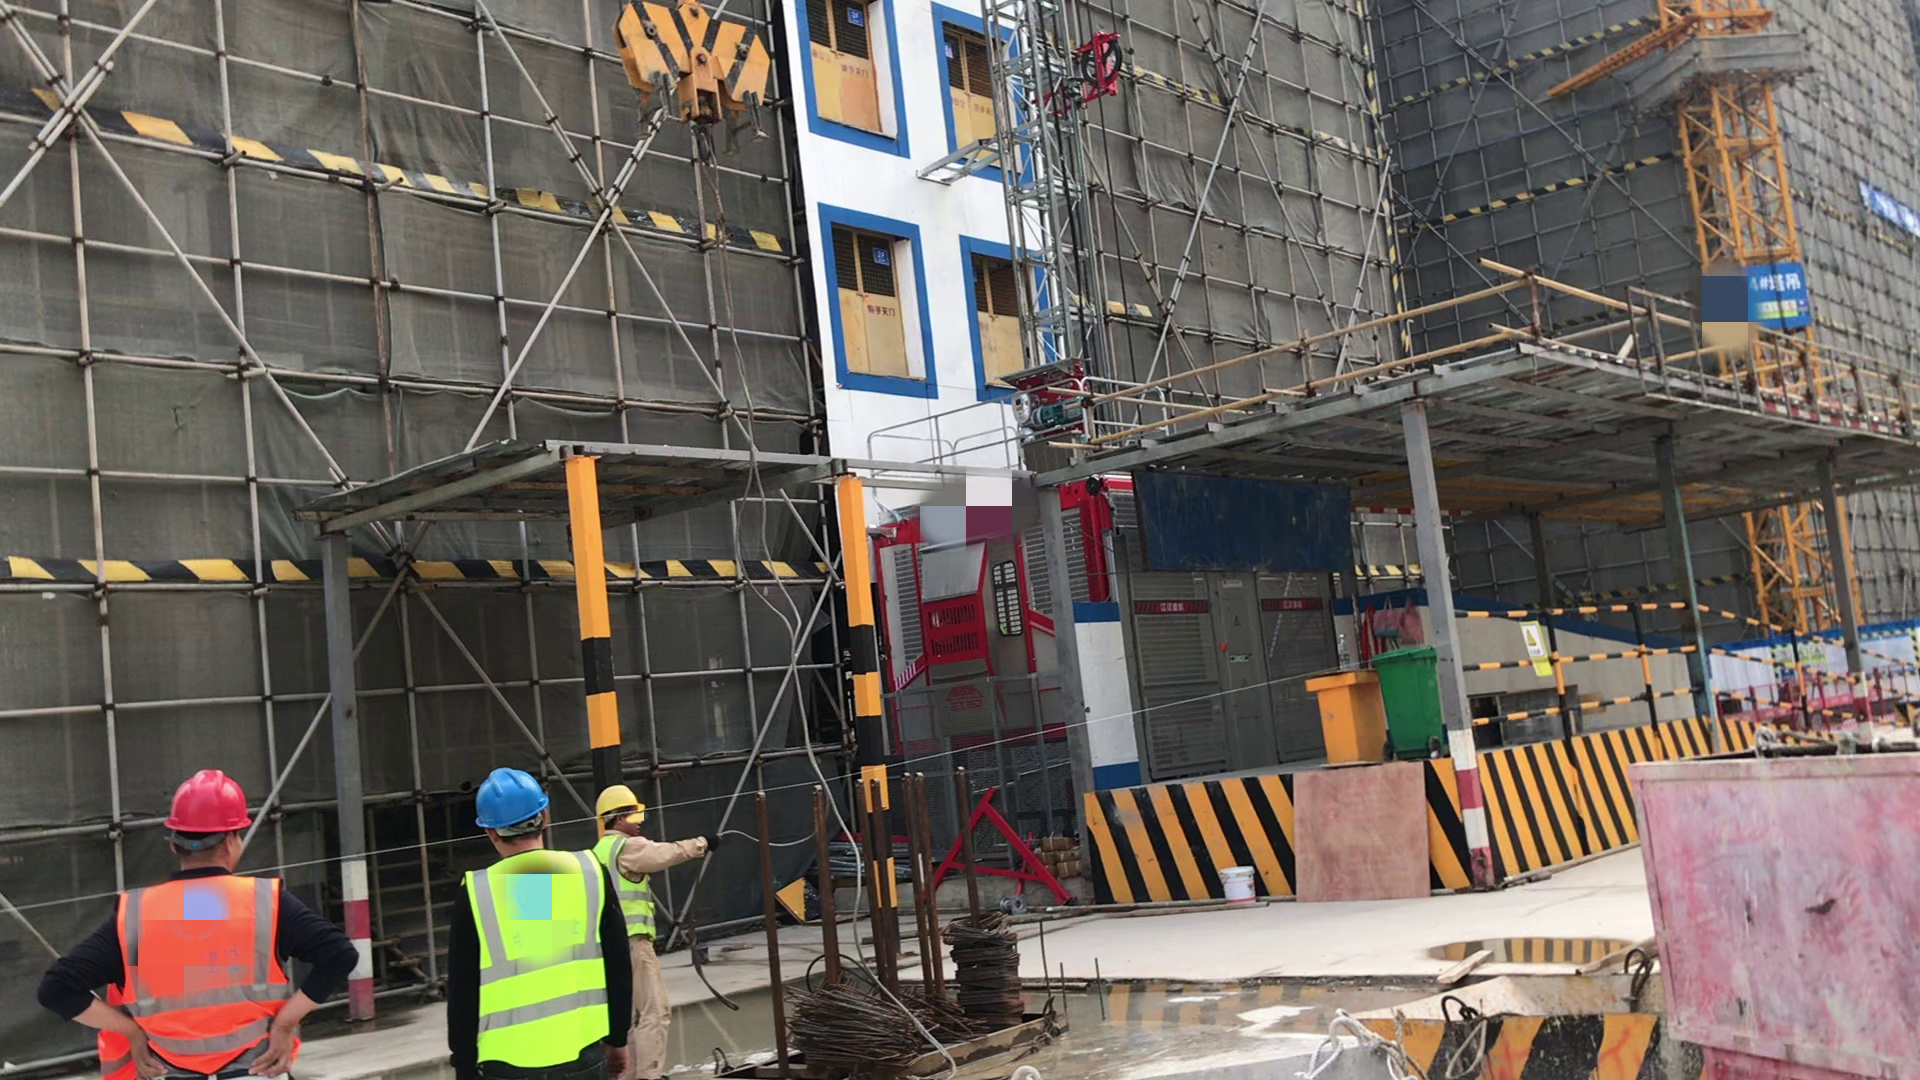ebox: (1312, 676, 1389, 765)
helmet: (166, 773, 254, 835), (471, 769, 546, 829), (597, 787, 642, 822)
hook: (616, 3, 774, 153)
hopper: (1332, 965, 1681, 1079)
person: (47, 774, 355, 1080), (447, 772, 631, 1080), (593, 787, 681, 1080)
slogan: (1863, 179, 1920, 236), (1516, 616, 1558, 676)
vest: (113, 879, 308, 1080), (466, 856, 608, 1064), (600, 834, 658, 934)
